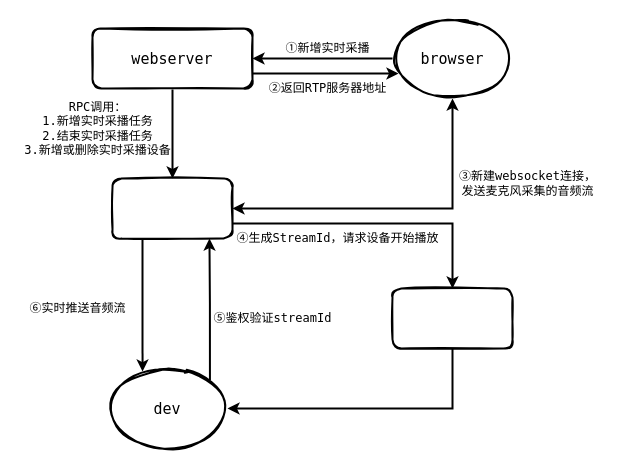
Image size: 619x466. Some labels were removed from this diagram. The shapes that lost their labels are listed below. From the top down, each one's box as (x1, y1, x2, y2) in pixels, then its label:
(111, 177, 233, 239): audio server
(391, 287, 513, 349): devconnector
